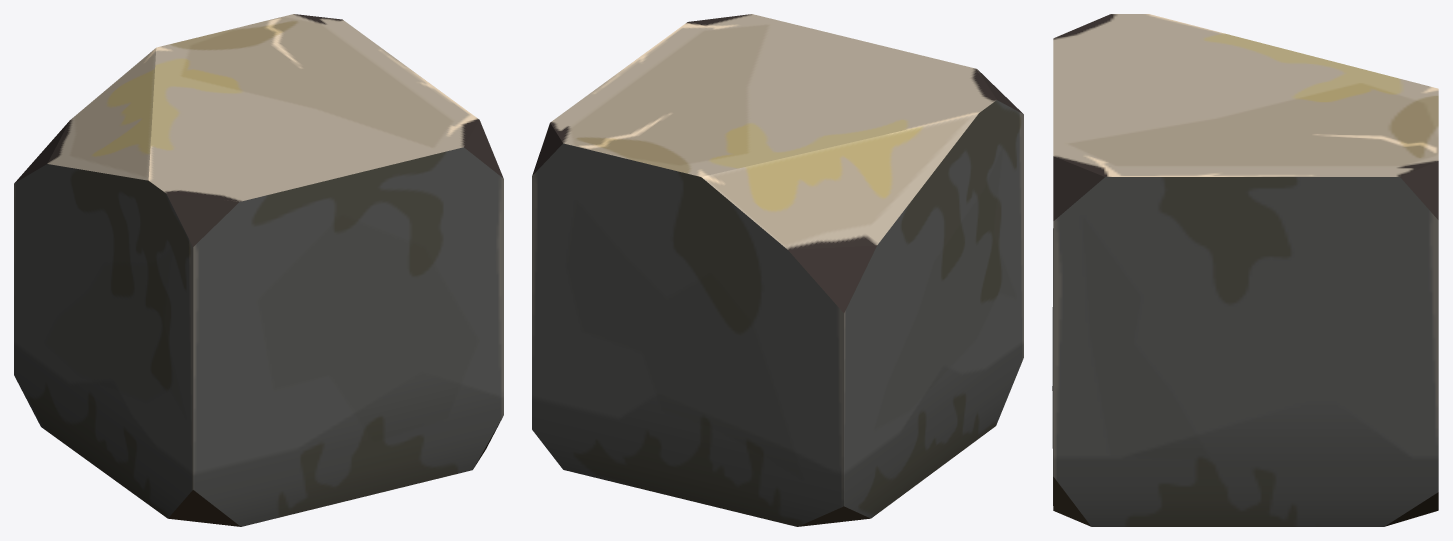
The model's file is Rock_04_002.fbx.
The picture shows the model from 3 angles, left to right: view 1: azimuth 30°, elevation 25°; view 2: azimuth 150°, elevation 25°; view 3: azimuth 270°, elevation 25°; orthographic projection. The views are drawn at different scales.
Parts seen in each view (by area): view 1: Rock_04_002; view 2: Rock_04_002; view 3: Rock_04_002.
Part boxes in pixels (box(x1,y1,x2,y2)): Rock_04_002: box(14, 14, 503, 526); Rock_04_002: box(532, 14, 1023, 526); Rock_04_002: box(1052, 14, 1438, 526).
Size of the model in its own units: 2 by 2 by 2.
1 material, 1 textured.
